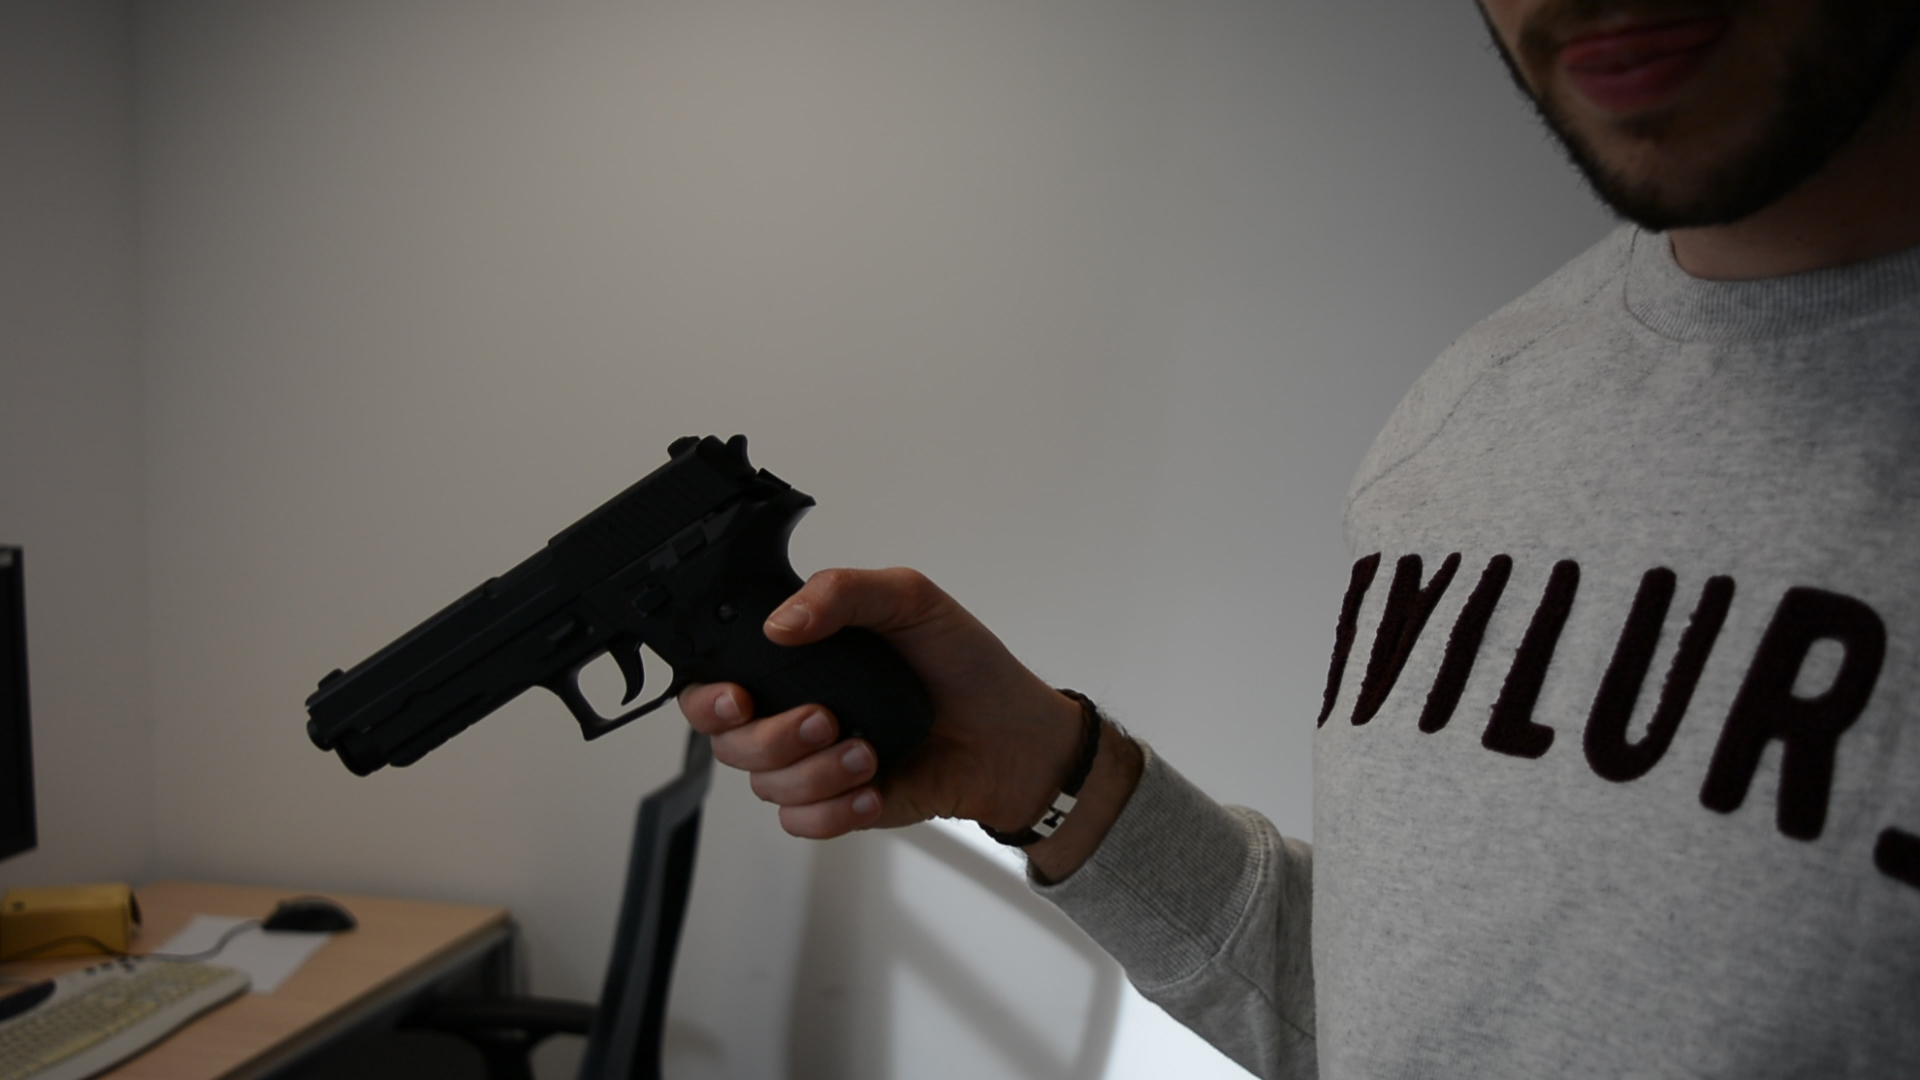pistol: (302, 427, 932, 782)
